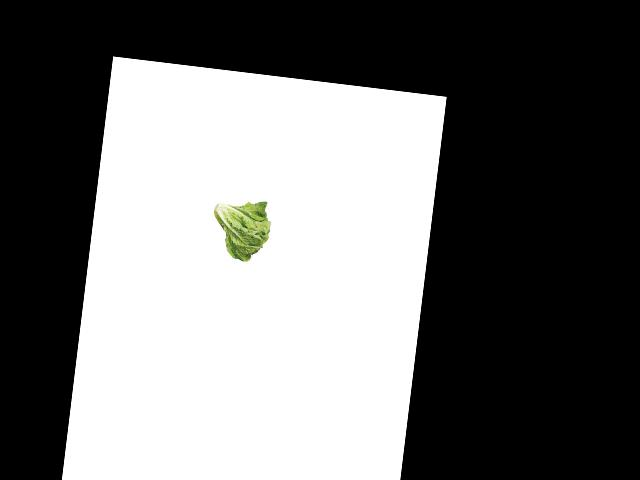lettuce: (204, 193, 275, 265)
